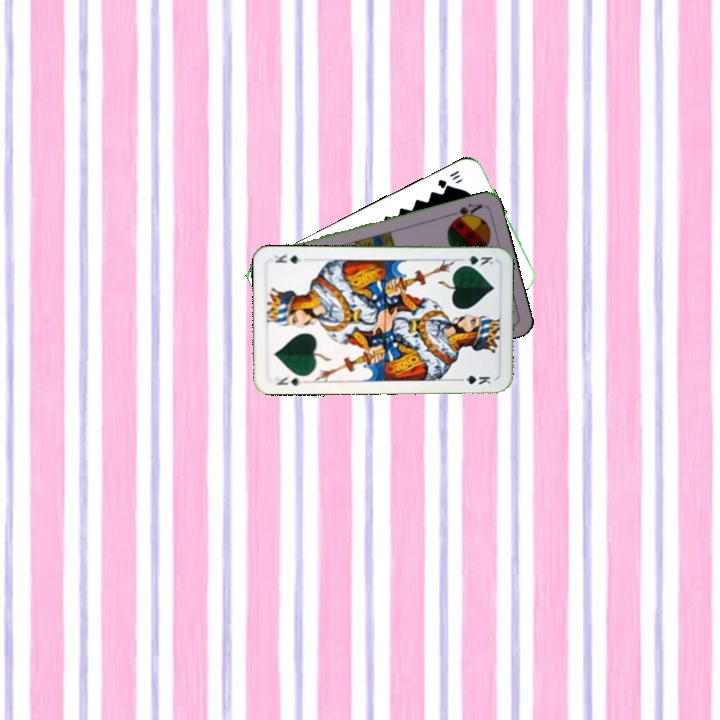G10: (434, 166, 464, 191)
GK: (456, 252, 495, 268), (272, 372, 308, 389)
SA: (445, 200, 485, 224)
